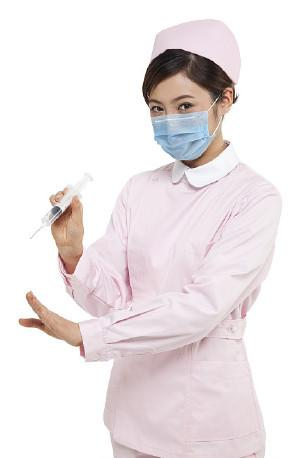OK: (148, 88, 223, 163)
